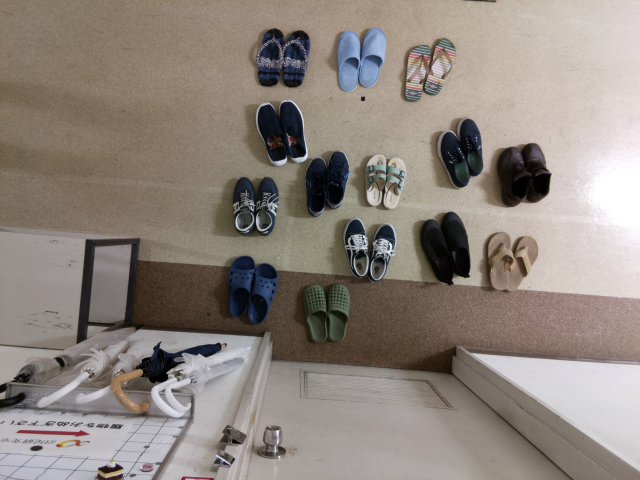Copy of Copy of Copy of Copy of Copy of Copy of Copy of Copy of Copy of Copy of: (421, 219, 454, 286), (440, 211, 471, 278), (367, 222, 396, 282), (342, 218, 369, 277)
Copy of Copy of Copy of Copy of Copy of Copy of Copy of Copy of Copy of shoes: (496, 145, 530, 206)
Copy of Copy of Copy of Copy of Copy of Copy of Copy of Copy of shoes: (521, 142, 552, 202)
Copy of Copy of Copy of Copy of Copy of Copy of Copy of sandal: (255, 27, 285, 87)
Copy of Copy of Copy of Copy of Copy of Copy of Copy of shoes: (436, 129, 469, 188)
Copy of Copy of Copy of Copy of Copy of Copy of sandal: (281, 30, 310, 87)
Copy of Copy of Copy of Copy of Copy of Copy of shoes: (456, 117, 484, 177)
Copy of Copy of Copy of Copy of Copy of sandal: (404, 43, 433, 103)
Copy of Copy of Copy of Copy of Copy of shoes: (232, 176, 254, 234)
Copy of Copy of Copy of Copy of Copy of slipper: (228, 256, 254, 319)
Copy of Copy of Copy of Copy of sandal: (422, 37, 456, 95)
Copy of Copy of Copy of Copy of shoes: (254, 176, 279, 236)
Copy of Copy of Copy of Copy of slipper: (247, 262, 279, 324)
Copy of Copy of Copy of sandal: (364, 154, 387, 206)
Copy of Copy of Copy of shoes: (305, 157, 326, 216)
Copy of Copy of Copy of slipper: (303, 283, 328, 341)
Copy of Copy of sandal: (382, 156, 406, 209)
Copy of Copy of shoes: (325, 150, 351, 208)
Copy of Copy of slipper: (327, 283, 350, 342)
Copy of sandal: (487, 231, 514, 290)
Copy of shoes: (255, 102, 287, 165)
Copy of slipper: (333, 30, 361, 91)
sandal: (503, 236, 539, 293)
shoes: (278, 98, 308, 163)
slipper: (358, 26, 386, 88)
